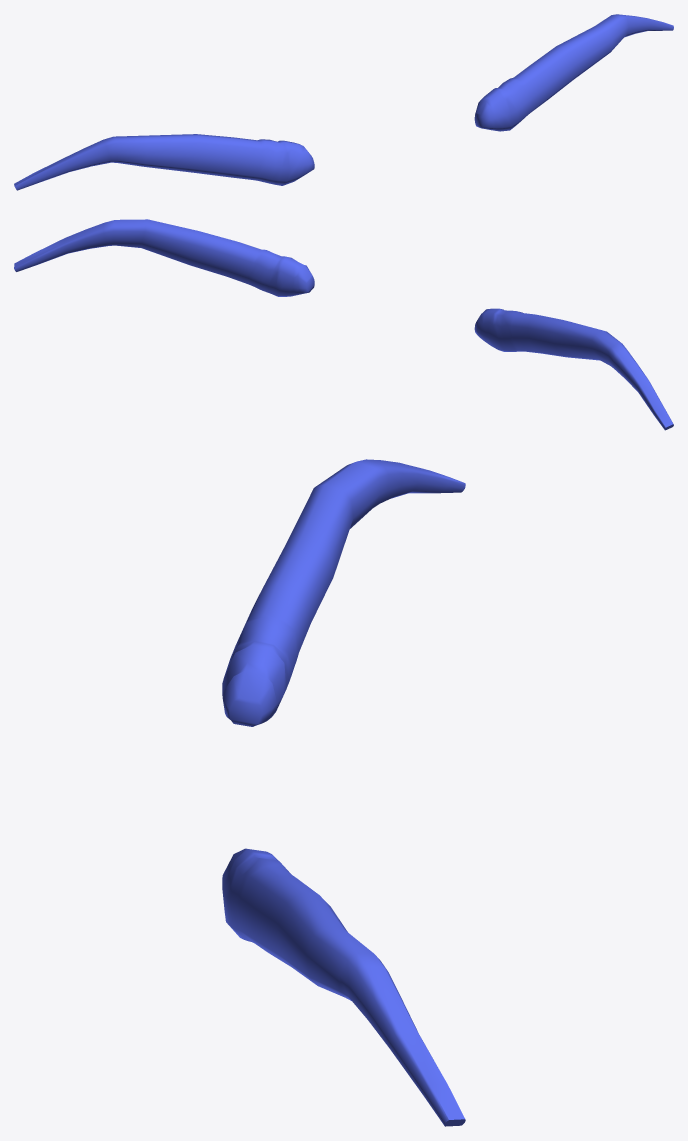
File: Eyebrows_10_03.fbx
The picture shows the model from 3 angles, top to bottom: view 1: azimuth 30°, elevation 25°; view 2: azimuth 150°, elevation 25°; view 3: azimuth 270°, elevation 25°; orthographic projection. The views are drawn at different scales.
Parts seen in each view (by area): view 1: Eyebrows_10_03; view 2: Eyebrows_10_03; view 3: Eyebrows_10_03.
Boxes of the visible parts, left/top/right/bottom form: Eyebrows_10_03: left=14, top=14, right=673, bottom=190; Eyebrows_10_03: left=14, top=219, right=673, bottom=430; Eyebrows_10_03: left=222, top=459, right=465, bottom=1126.
Size of the model in its own units: 19.53 by 1.75 by 3.13.
